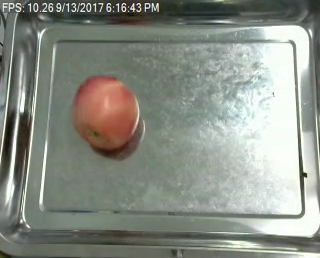Apple: (71, 74, 140, 152)
